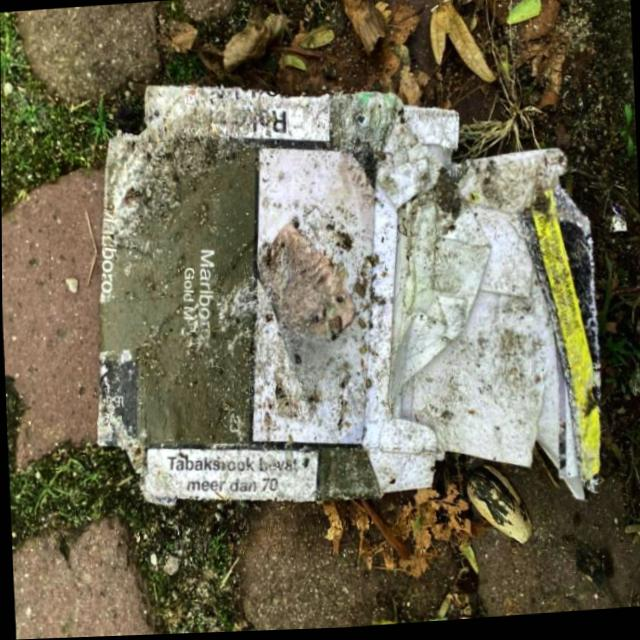Paper: (76, 49, 615, 541)
